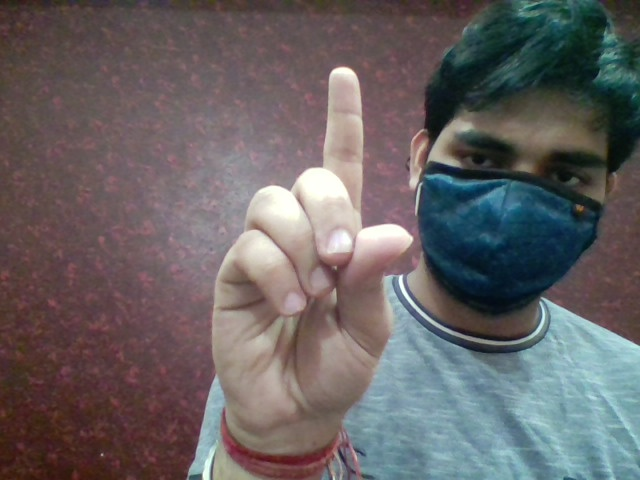d: (202, 58, 417, 425)
